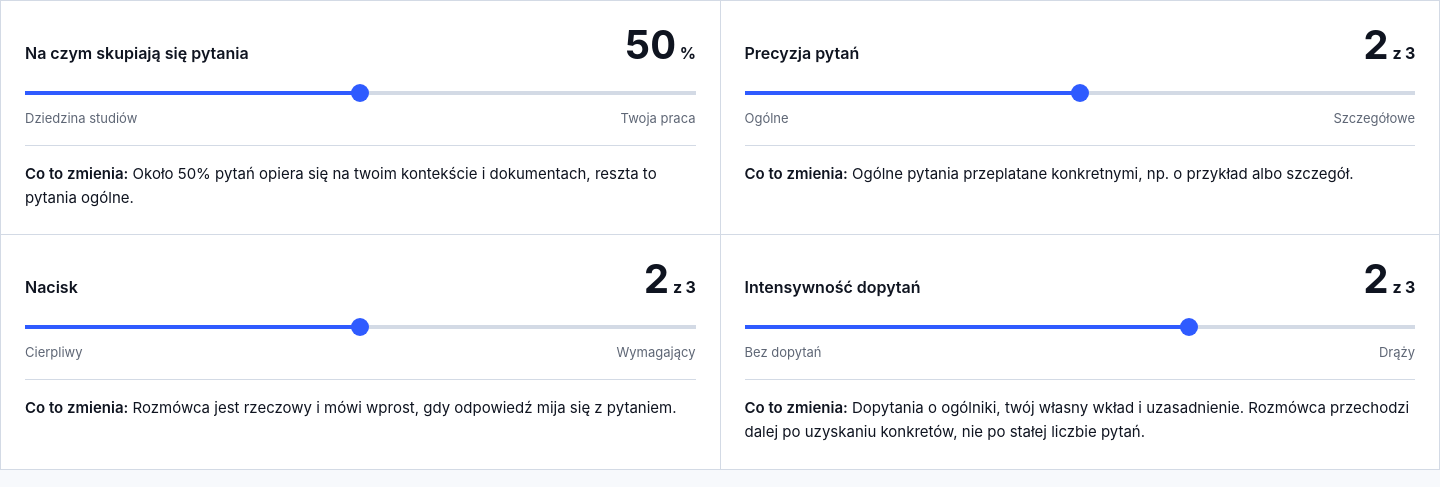
explains what each slider changes and updates it as it moves
expect the text "Dziedzina studiów" is shown: met, box [25,109,137,128]
expect the text "Twoja praca" is shown: met, box [621,109,696,128]
Set the slider labelled "Nacisk" to "3" at (688, 327), box [25,315,696,339]
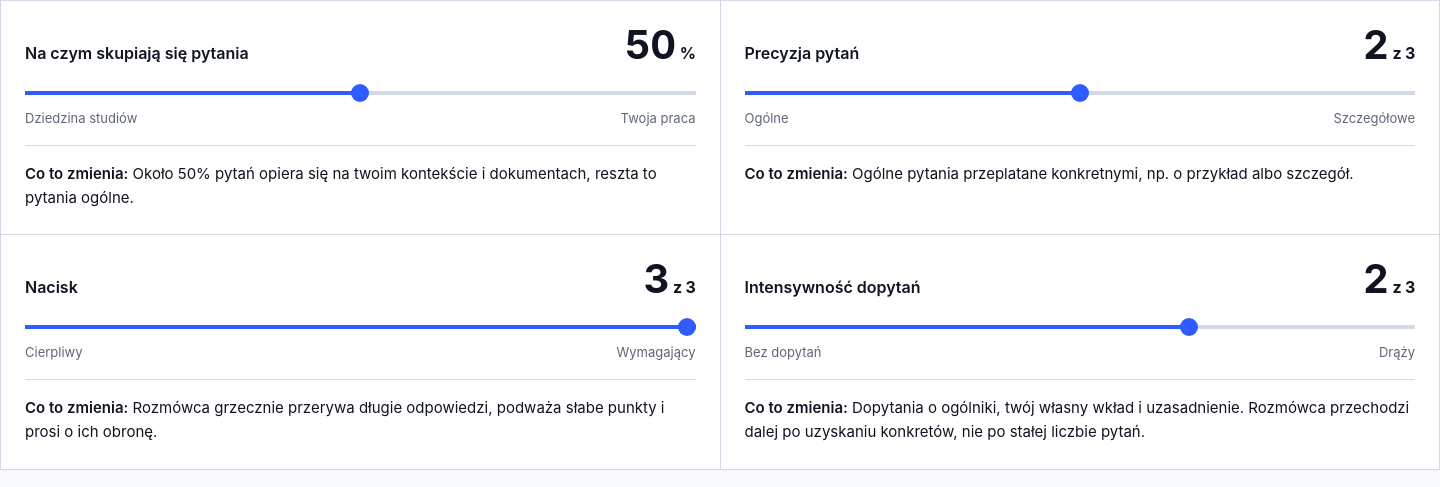
expect the text "podważa słabe punkty" is shown: met, box [25,398,664,441]
Set the slider labelled "Intensywność dopytań" to "0" at (752, 327), box [744,315,1415,339]
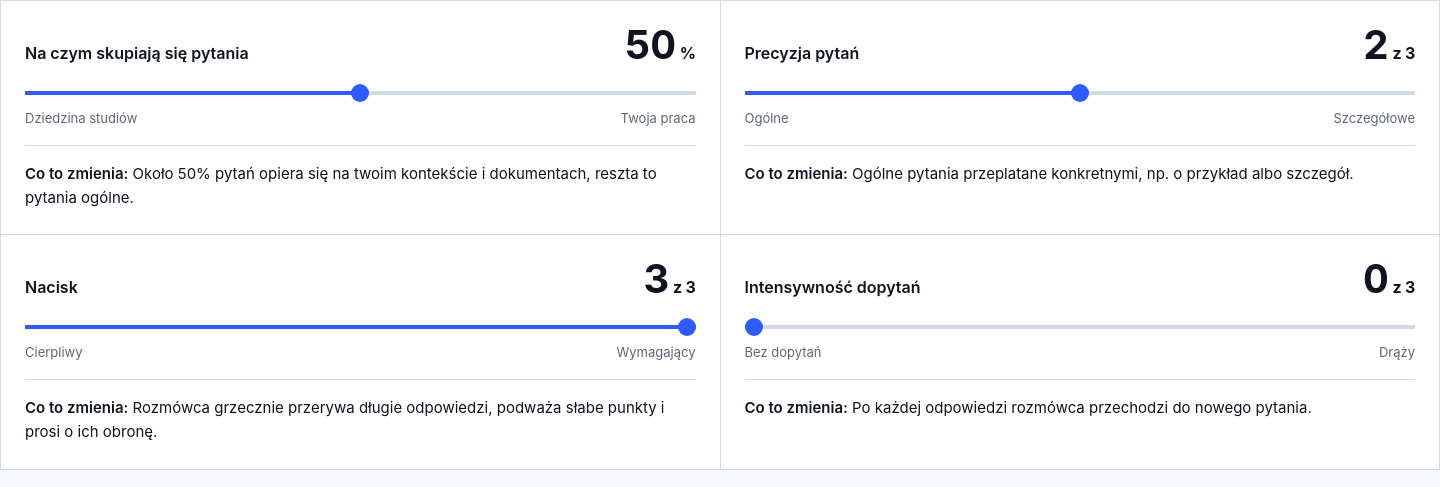
expect the text "Po każdej odpowiedzi rozmówca przechodzi do nowego pytania." is shown: met, box [852,398,1312,417]
Set the slider labelled "Na czym skupiają się pytania" to "100" at (688, 93), box [25,81,696,105]
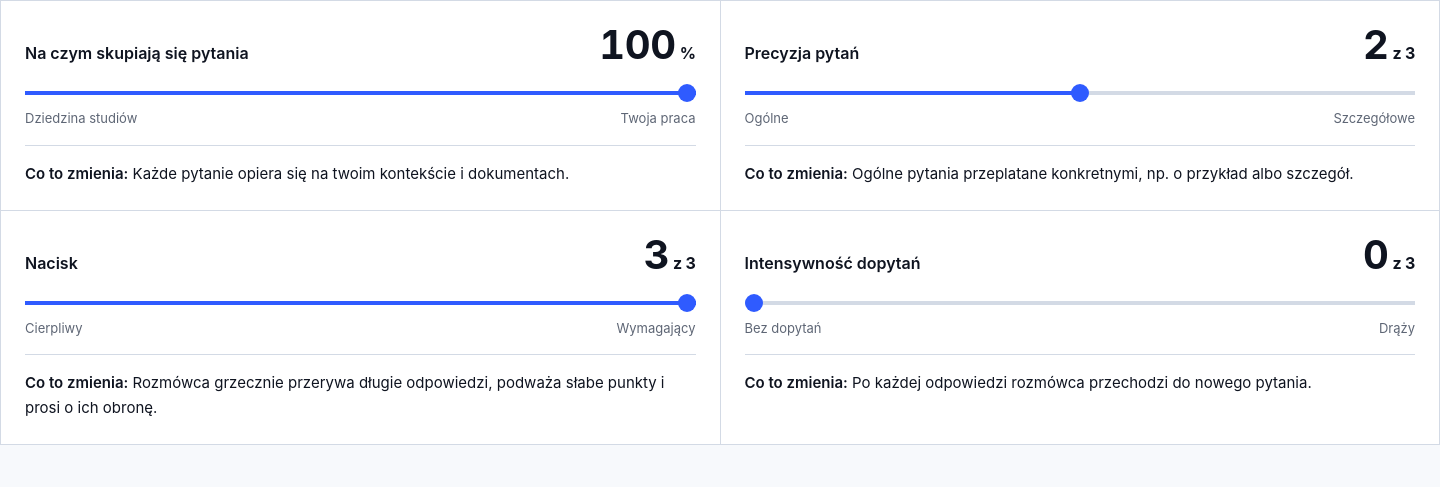
expect the text "Każde pytanie opiera się na twoim kontekście i dokumentach." is shown: met, box [132,164,569,182]
